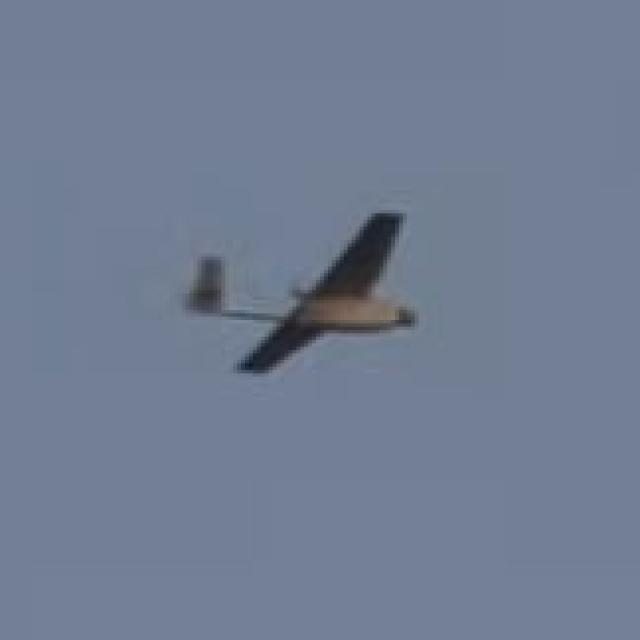iha: (183, 209, 424, 376)
